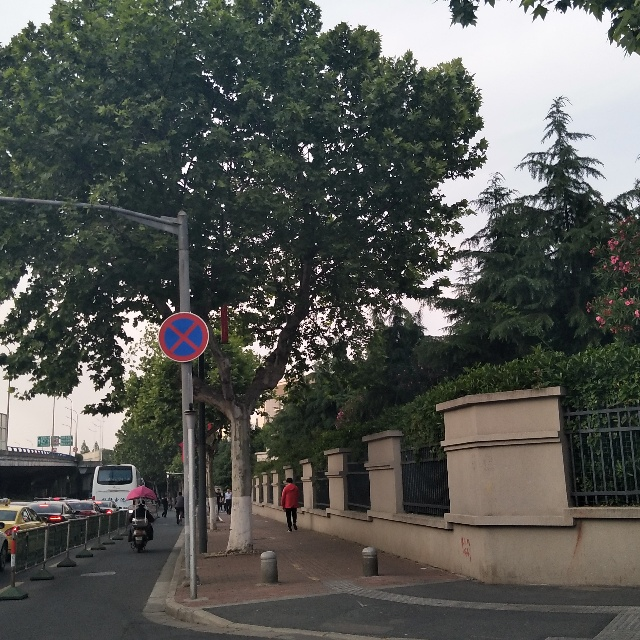stop: (167, 316, 202, 358)
